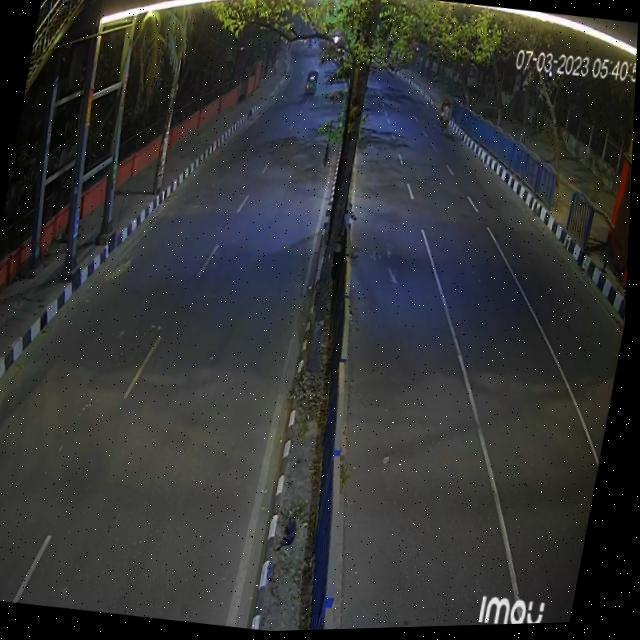cng: (304, 70, 323, 101)
rikshaw: (436, 100, 456, 141)
